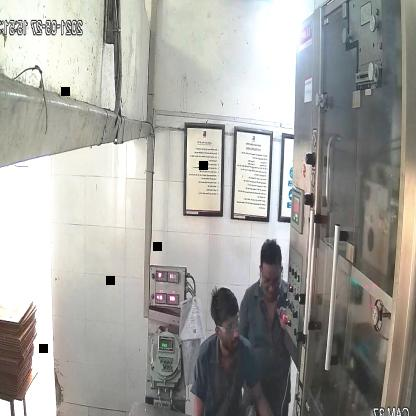goggles: (213, 315, 243, 338)
